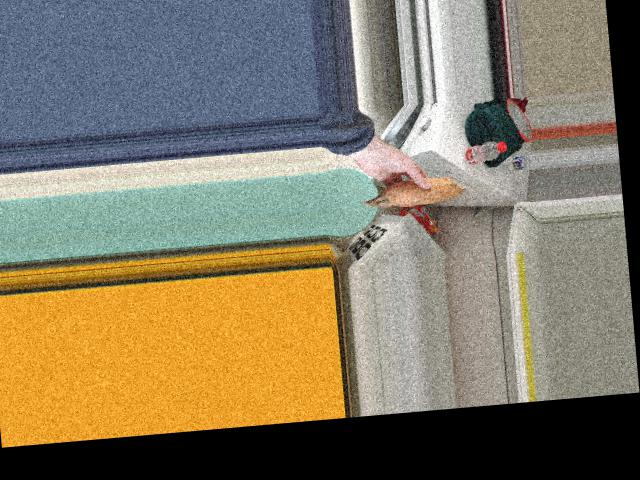sweet_potato: (364, 168, 453, 209)
